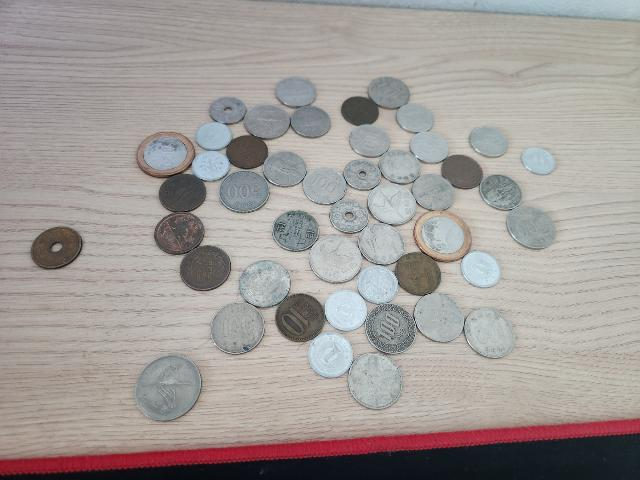coin: (136, 357, 202, 423), (348, 353, 404, 411), (412, 208, 472, 262), (212, 303, 264, 357), (310, 232, 362, 284), (136, 128, 192, 176), (413, 295, 465, 345), (465, 308, 517, 358), (365, 303, 415, 353), (506, 204, 558, 250), (242, 260, 290, 308), (180, 244, 230, 290), (32, 226, 82, 270), (278, 294, 324, 340), (368, 182, 418, 224), (154, 210, 202, 253), (308, 334, 356, 376), (394, 252, 442, 294), (160, 172, 208, 213), (222, 172, 268, 214), (243, 101, 291, 141), (360, 222, 404, 264), (327, 286, 367, 330), (302, 164, 346, 204), (276, 210, 318, 250), (413, 171, 455, 211), (378, 147, 422, 185), (360, 266, 400, 306), (479, 174, 521, 211), (441, 154, 484, 190), (369, 75, 411, 111), (348, 125, 392, 158), (461, 251, 499, 289), (265, 151, 305, 187), (225, 135, 267, 169), (470, 123, 510, 157), (292, 105, 331, 139), (330, 198, 368, 232), (344, 156, 382, 190), (410, 130, 450, 162), (276, 76, 314, 109), (341, 95, 379, 127), (193, 149, 229, 181), (196, 120, 230, 152), (520, 145, 556, 175), (396, 104, 434, 132), (209, 94, 245, 123)
